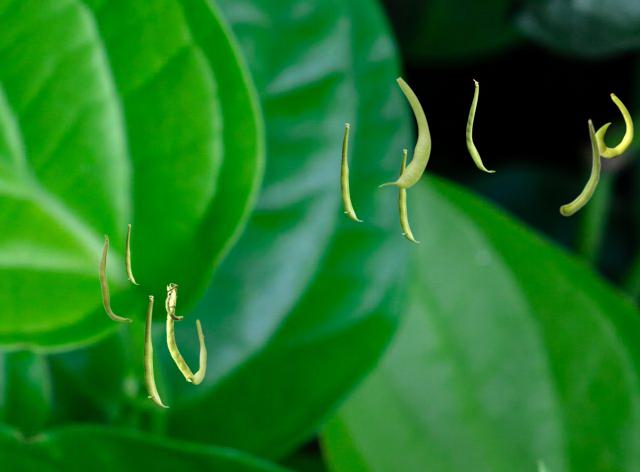french_bean: (378, 76, 430, 187), (559, 118, 600, 215), (98, 234, 131, 321), (143, 295, 168, 406), (165, 283, 192, 380), (466, 79, 494, 171), (596, 93, 632, 157), (340, 123, 362, 220), (398, 149, 419, 241), (186, 319, 205, 383), (125, 224, 138, 283)
